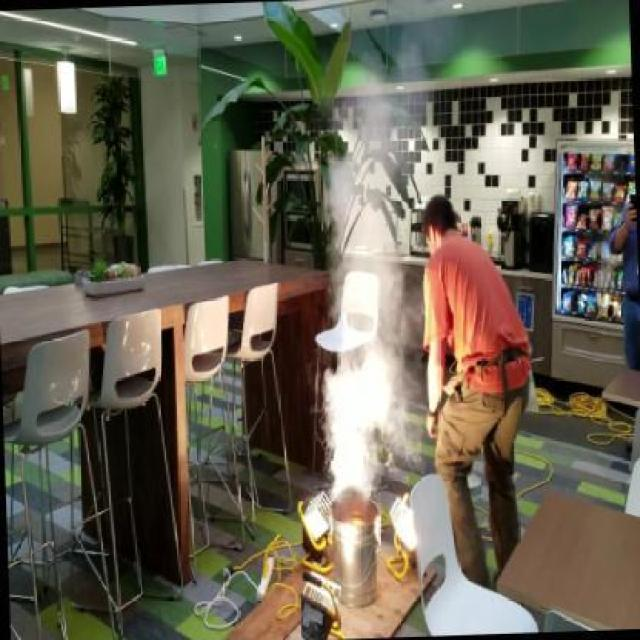fire: (314, 152, 408, 494)
